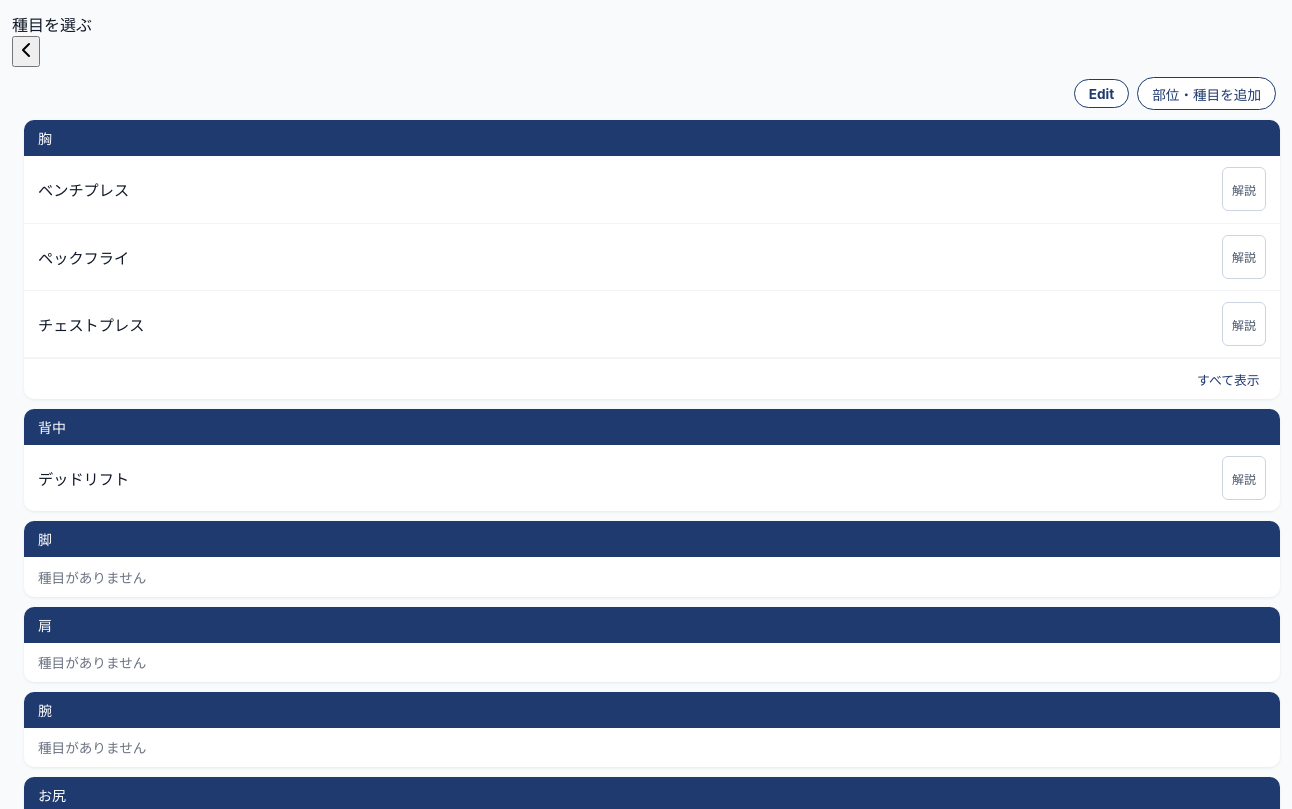
Test: ExerciseSelectPage › 「Edit」ボタンをクリックすると削除ボタンが表示される
Click the button "Edit" at (1102, 94), box [1074,79,1129,108]
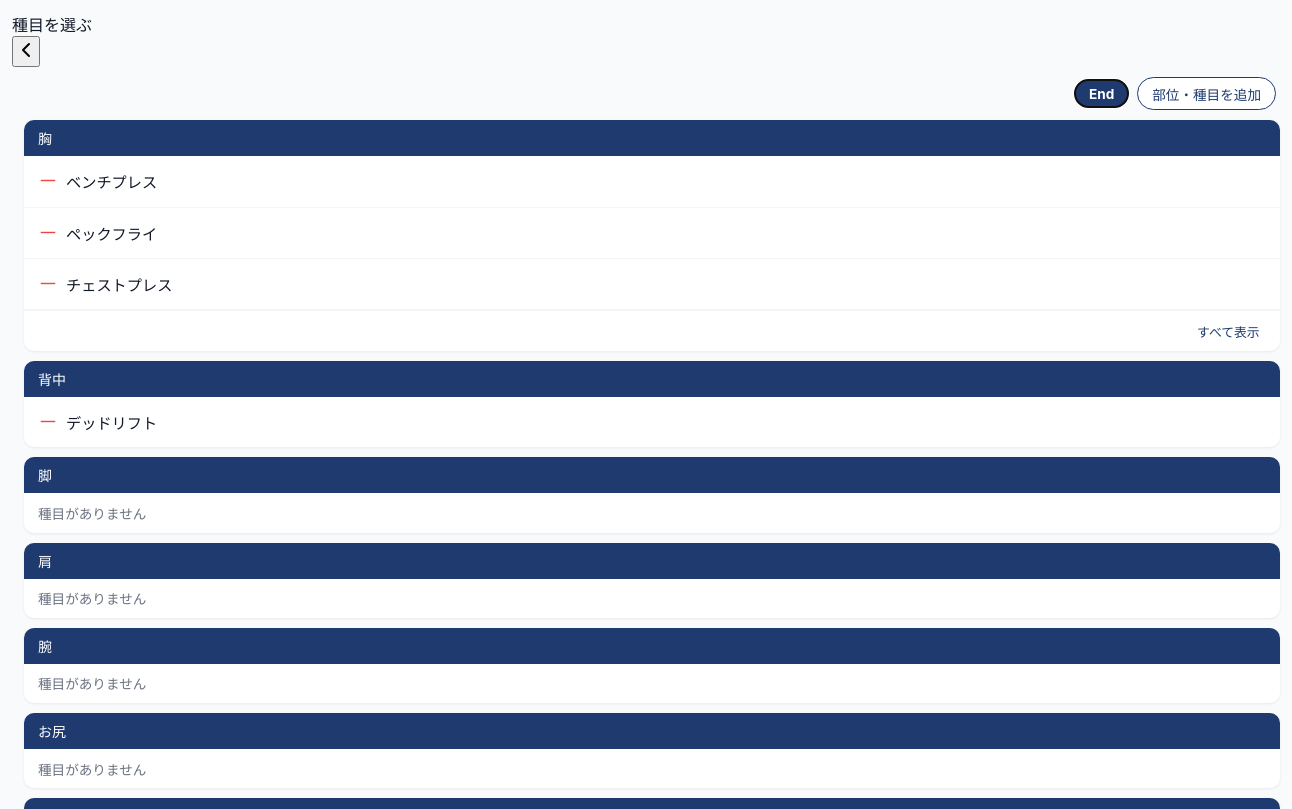
Check: the button named "を削除" is shown, box [38,167,66,195]
